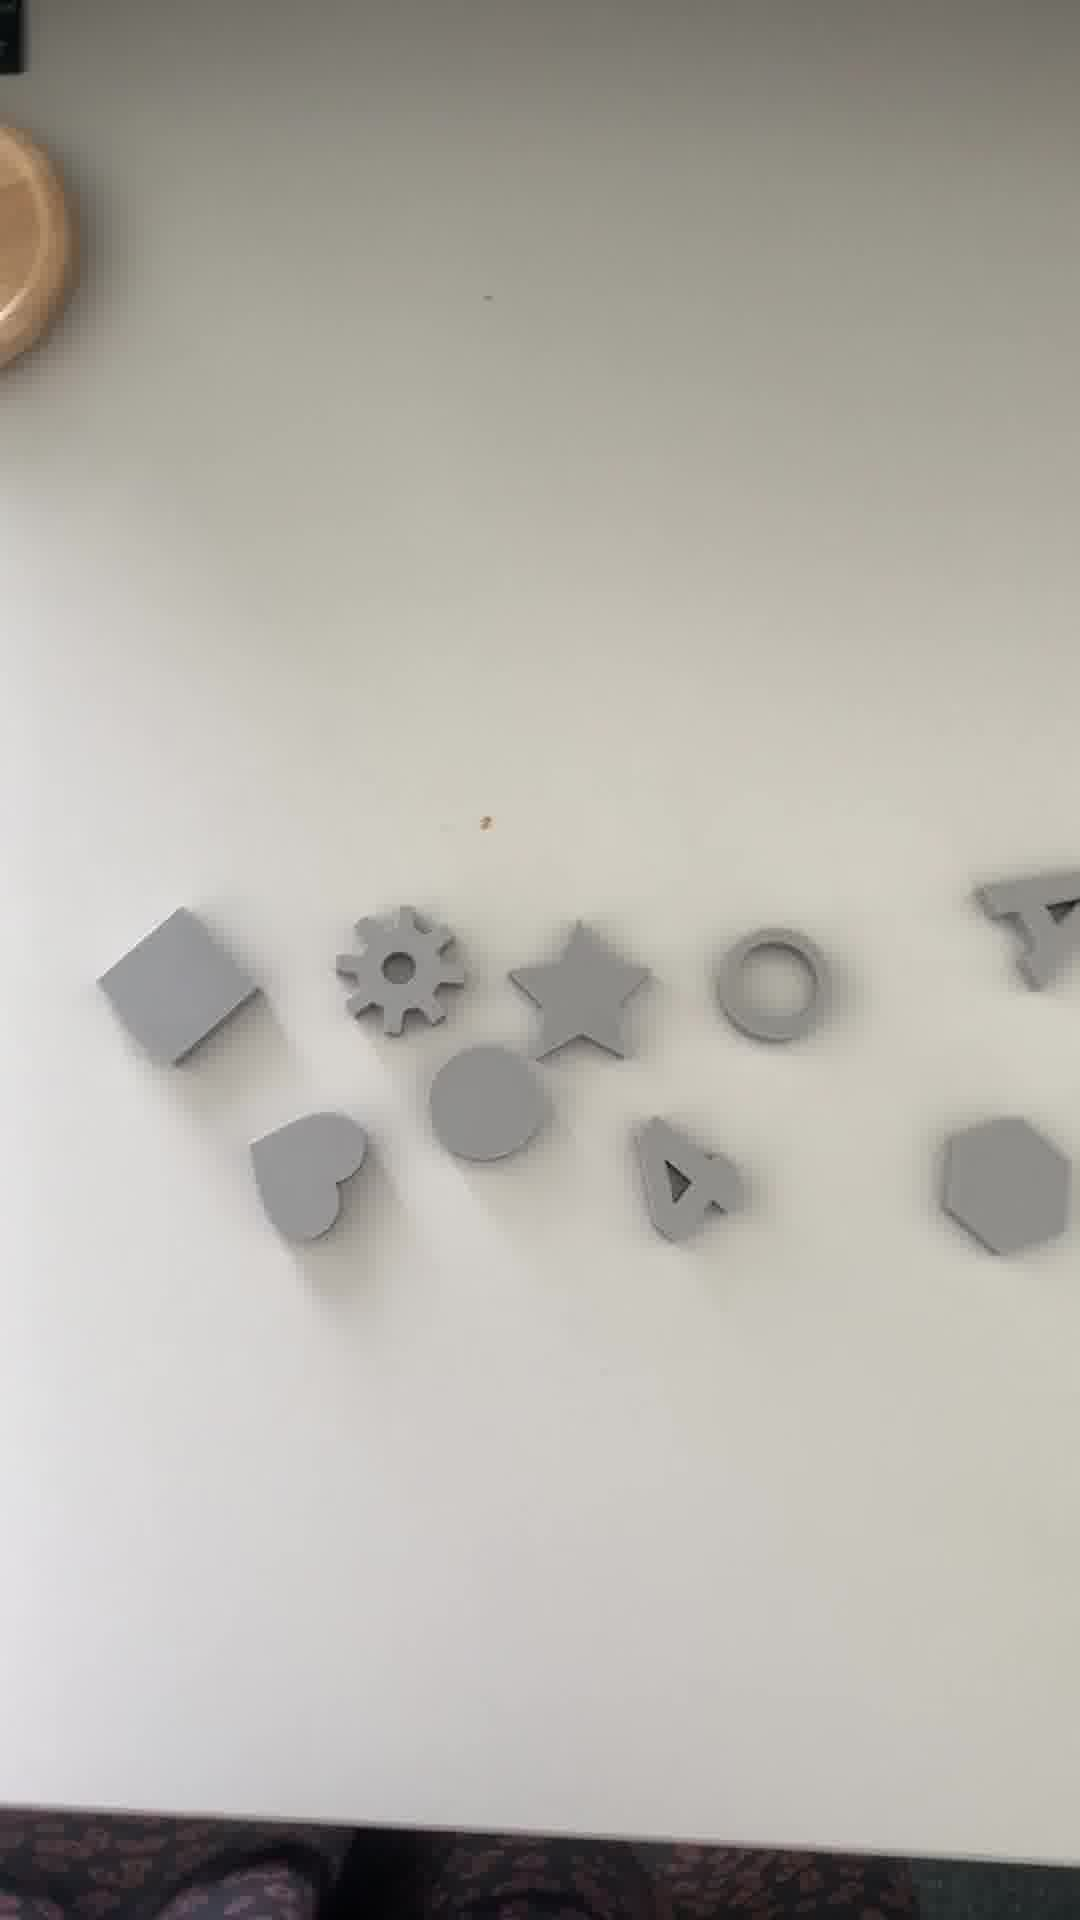Gray A-letter: (967, 872, 1080, 989)
Gray circle: (421, 1050, 558, 1155)
Gray four: (636, 1120, 749, 1250)
Gray gear: (338, 903, 455, 1040)
Gray heart: (253, 1106, 371, 1247)
Gray hexagon: (924, 1122, 1080, 1257)
Gray ring: (705, 926, 833, 1058)
Gray square: (92, 910, 266, 1081)
Gray star: (508, 909, 649, 1062)
